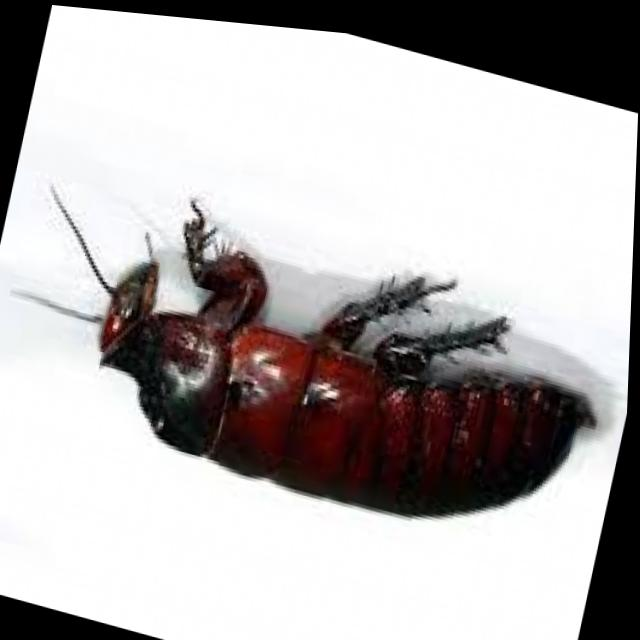Cockroach: (0, 137, 636, 584)
